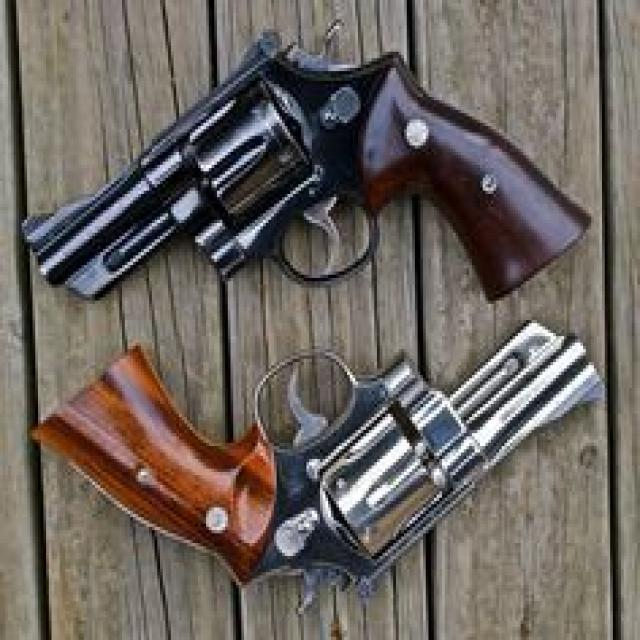revolver: (14, 0, 636, 315)
